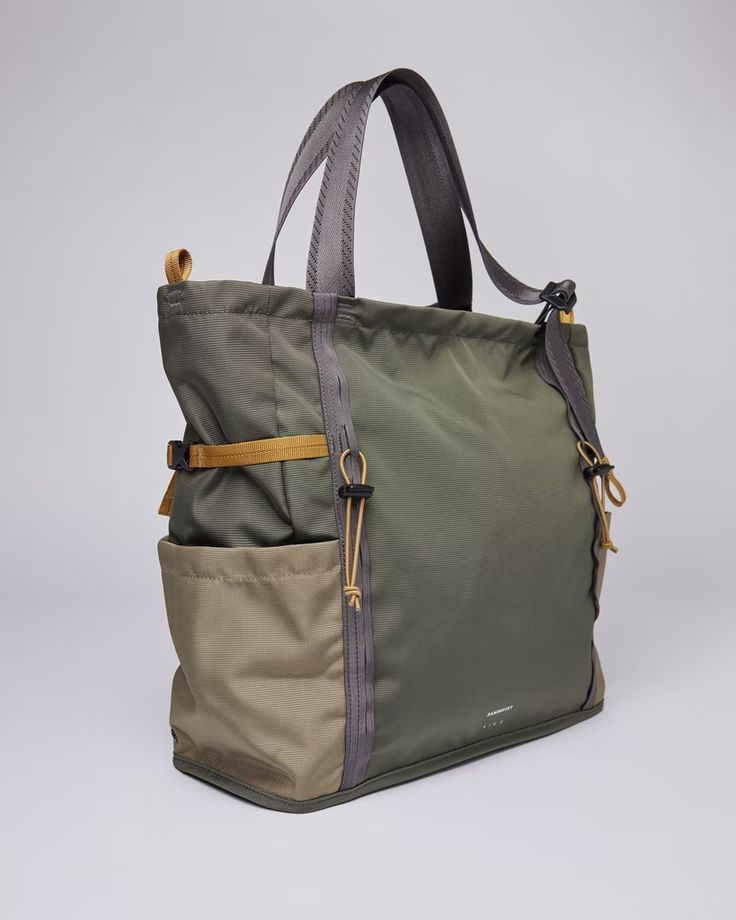nylon: (157, 68, 625, 814)
